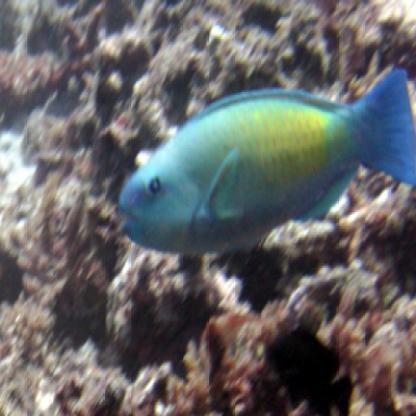Bio: (115, 64, 415, 257)
